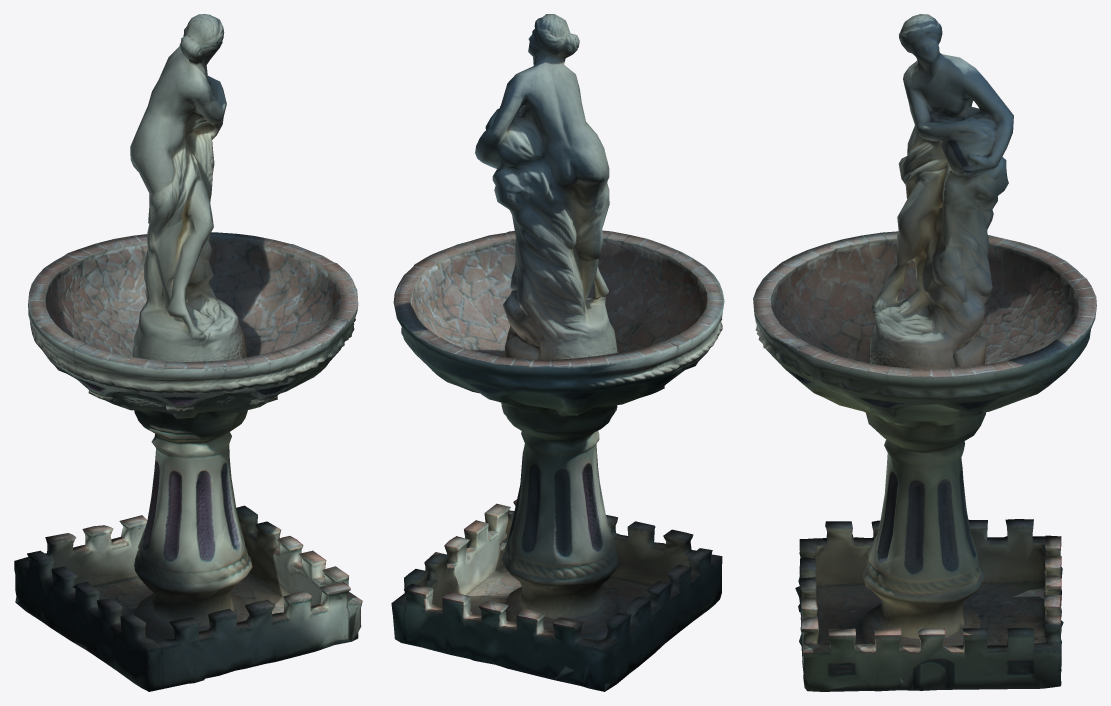
File: garden_statue.glb
The picture shows the model from 3 angles, left to right: view 1: azimuth 30°, elevation 25°; view 2: azimuth 150°, elevation 25°; view 3: azimuth 270°, elevation 25°; orthographic projection. The views are drawn at different scales.
Visible parts, largest first — view 1: GardenStatue; view 2: GardenStatue; view 3: GardenStatue.
Part boxes in pixels (bbox=[...]): GardenStatue: bbox=[14, 14, 362, 691]; GardenStatue: bbox=[391, 14, 724, 691]; GardenStatue: bbox=[753, 14, 1096, 691].
Size of the model in its own units: 0.9755 by 1.94 by 0.9682.
Materials: 1 (1 with a texture image).
